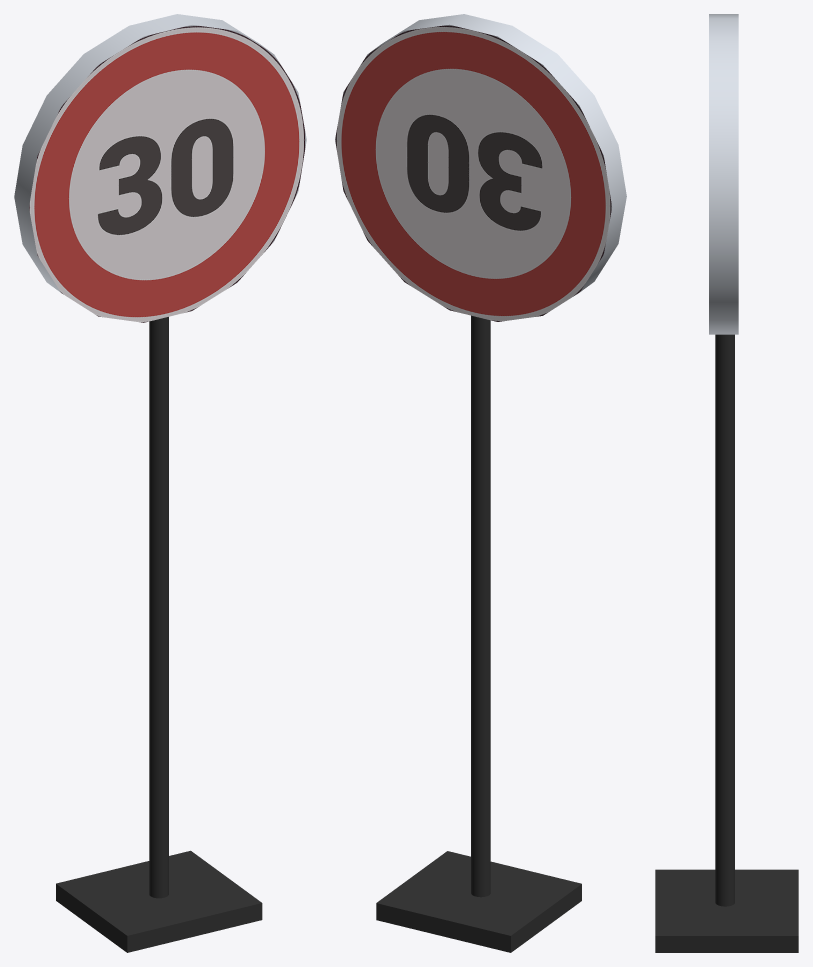
File: schild_speedlimit.FBX
3 renders of one model, left to right at view 1: azimuth 30°, elevation 25°; view 2: azimuth 150°, elevation 25°; view 3: azimuth 270°, elevation 25°, orthographic.
Parts seen in each view (by area): view 1: schild, schildständer; view 2: schild, schildständer; view 3: schildständer, schild.
Part boxes in pixels (box(x1,y1,x2,y2)): schild: box(14, 14, 306, 322); schildständer: box(56, 317, 262, 952); schild: box(335, 14, 626, 321); schildständer: box(376, 315, 581, 952); schildständer: box(655, 334, 798, 952); schild: box(709, 14, 738, 334).
Size of the model in its own units: 12.34 by 5.5 by 37.66.
Materials: 2 (1 with a texture image).
